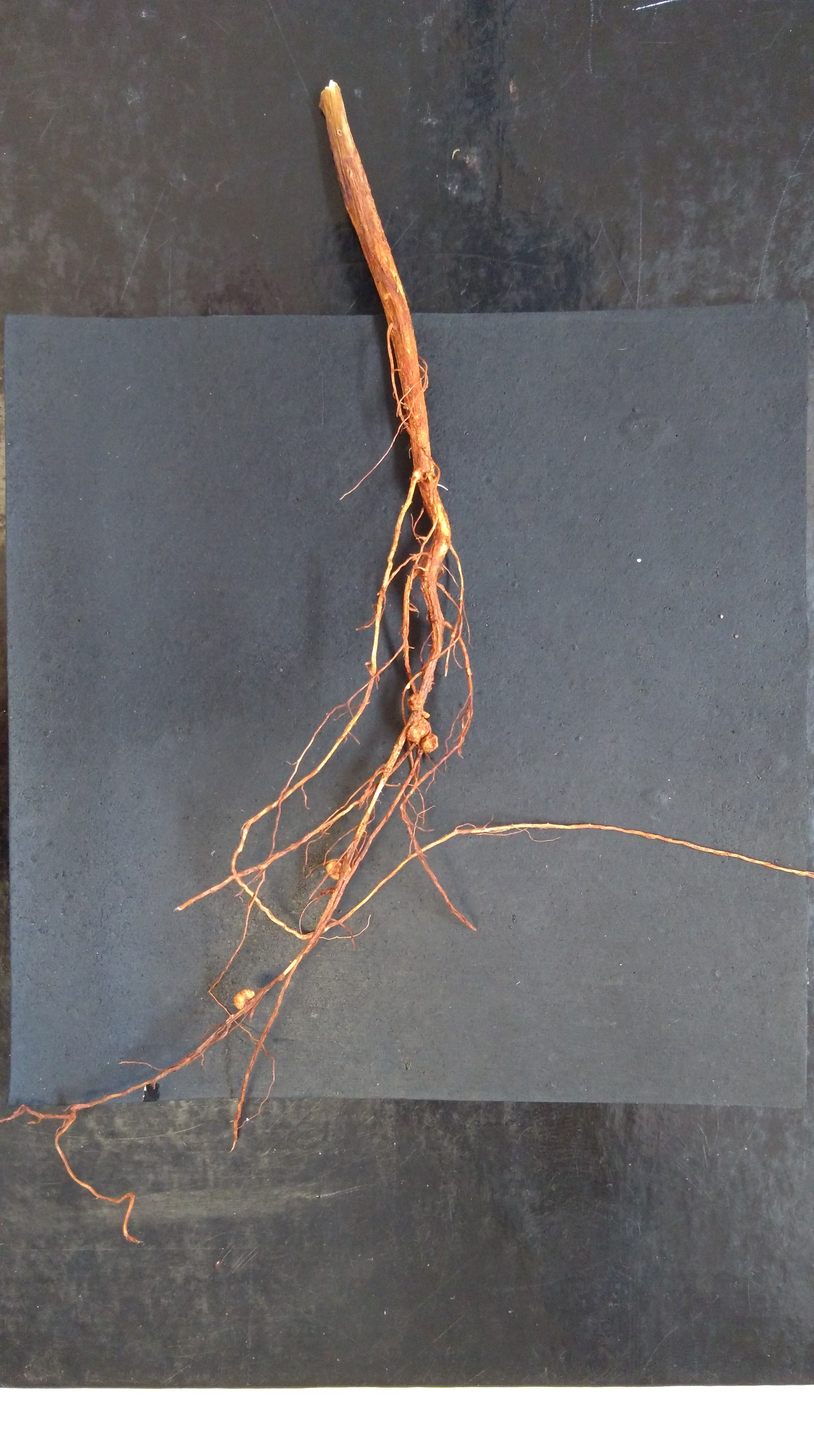nodule: (405, 716, 431, 746), (324, 860, 351, 882), (232, 987, 255, 1011), (418, 732, 439, 754), (406, 692, 423, 712), (422, 711, 430, 719)
